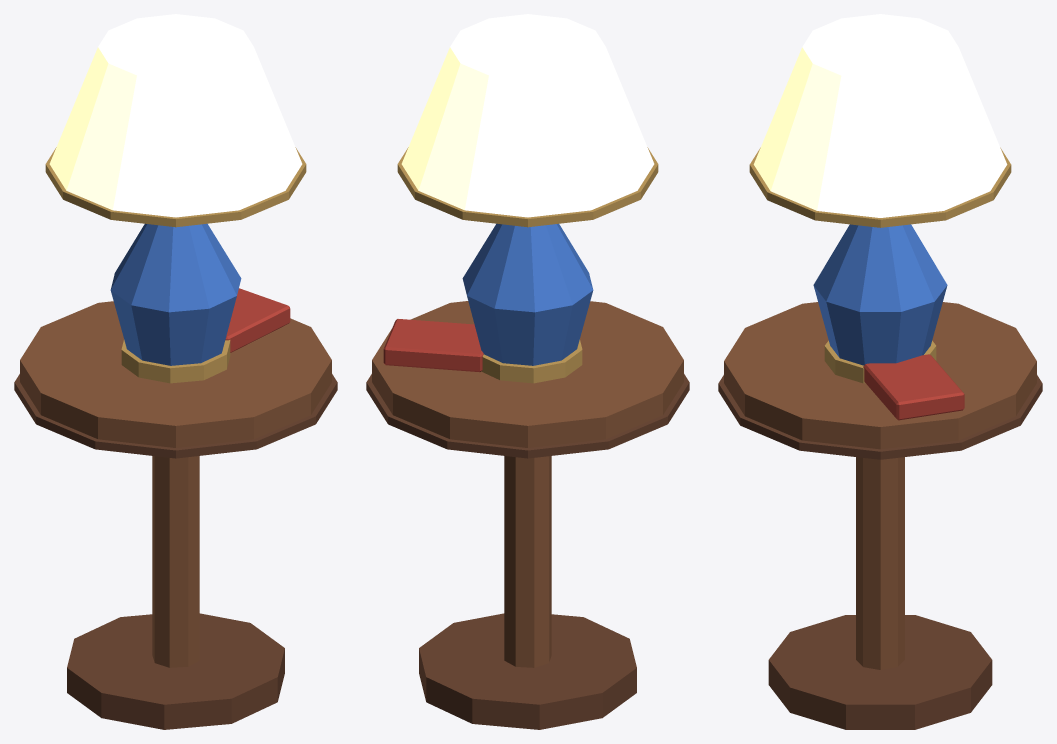
Rendered from lamp.glb.
3 views of the same model, side by side, from view 1: azimuth 30°, elevation 25°; view 2: azimuth 150°, elevation 25°; view 3: azimuth 270°, elevation 25° (orthographic).
Visible parts, largest first — view 1: lamp; view 2: lamp; view 3: lamp.
Boxes of the visible parts, x1,y1,x2,y2 form: lamp: (14, 14, 337, 729); lamp: (366, 14, 689, 729); lamp: (718, 14, 1042, 729).
Bounding box in the file's own units: 0.29 × 0.63 × 0.29.
